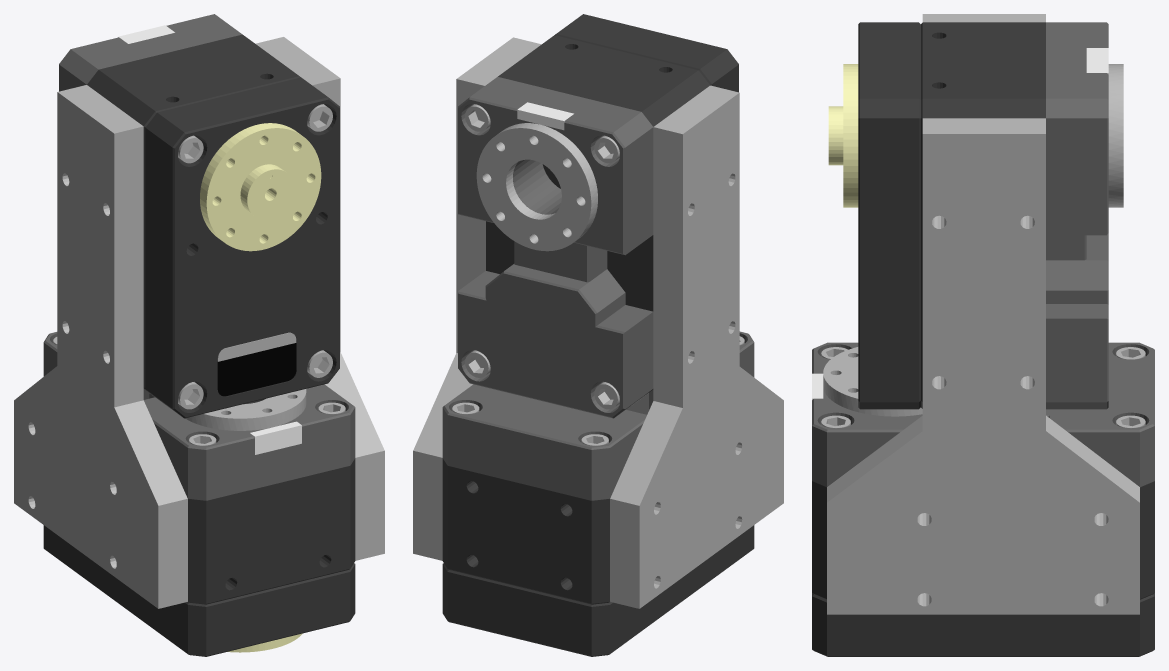
File: UpperArm.obj
The picture shows the model from 3 angles, left to right: view 1: azimuth 30°, elevation 25°; view 2: azimuth 150°, elevation 25°; view 3: azimuth 270°, elevation 25°; orthographic projection. The views are drawn at different scales.
Size of the model in its own units: 3.85 by 8.67 by 4.65.
